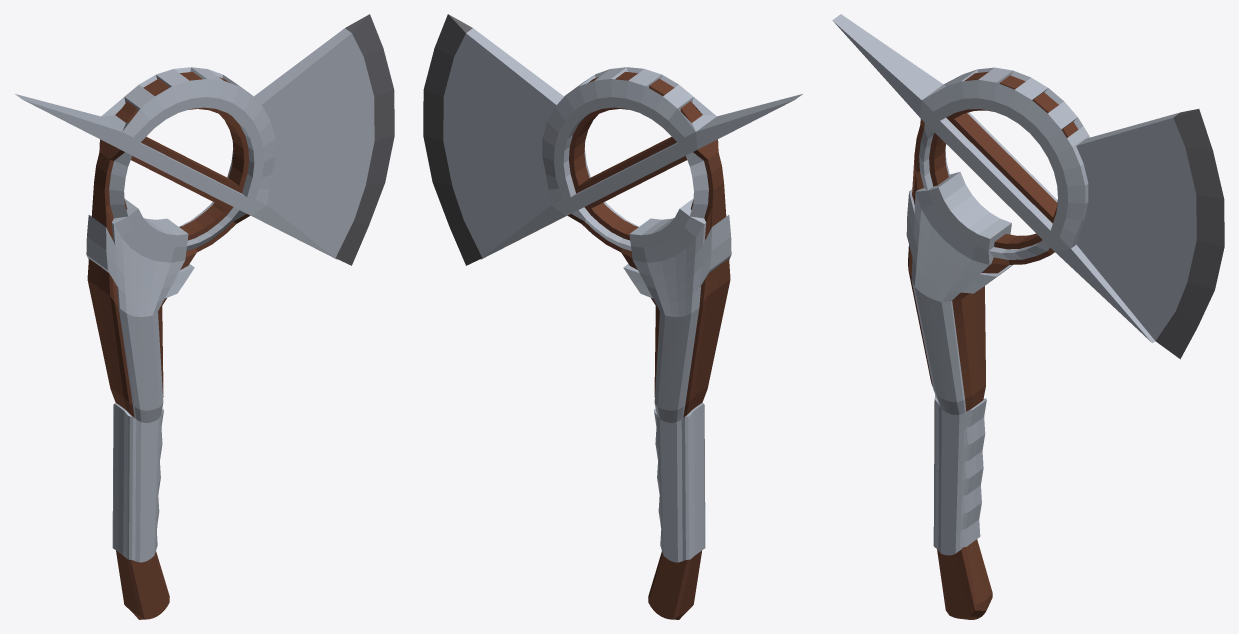
File: Axe 2 Fagerone.fbx
3 views of the same model, side by side, from view 1: azimuth 30°, elevation 25°; view 2: azimuth 150°, elevation 25°; view 3: azimuth 330°, elevation 25° (orthographic). The views are drawn at different scales.
Visible parts, largest first — view 1: Cylinder.001; view 2: Cylinder.001; view 3: Cylinder.001.
Part boxes in pixels (box(x1,y1,x2,y2)): Cylinder.001: box(15, 14, 394, 619); Cylinder.001: box(423, 14, 802, 619); Cylinder.001: box(832, 14, 1224, 619).
Bounding box in the file's own units: 3.36 × 4.72 × 0.5048.
1 material, 1 textured.
